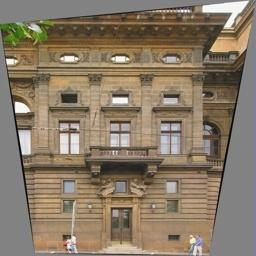building: (36, 0, 232, 236)
